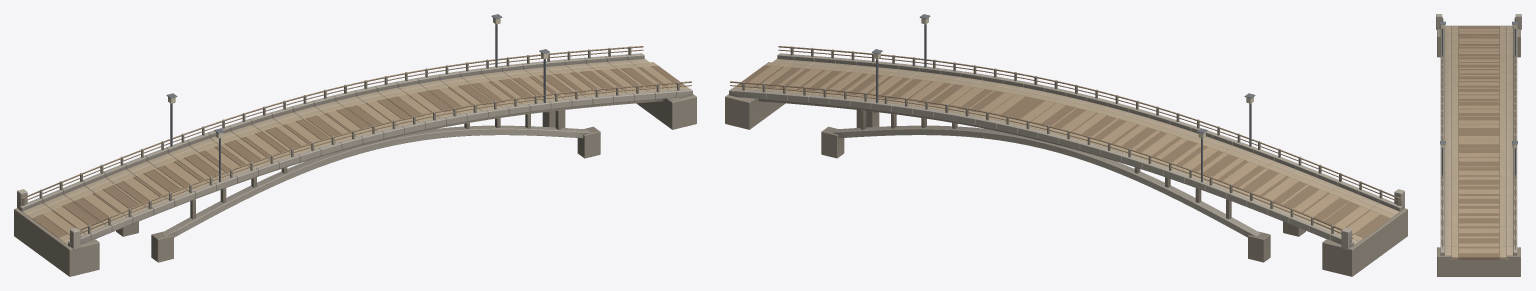
File: bridge_byeolmaru_wide.glb
The picture shows the model from 3 angles, left to right: view 1: azimuth 30°, elevation 25°; view 2: azimuth 150°, elevation 25°; view 3: azimuth 270°, elevation 25°; orthographic projection. The views are drawn at different scales.
Size of the model in its own units: 62.05 by 11.31 by 9.7.
